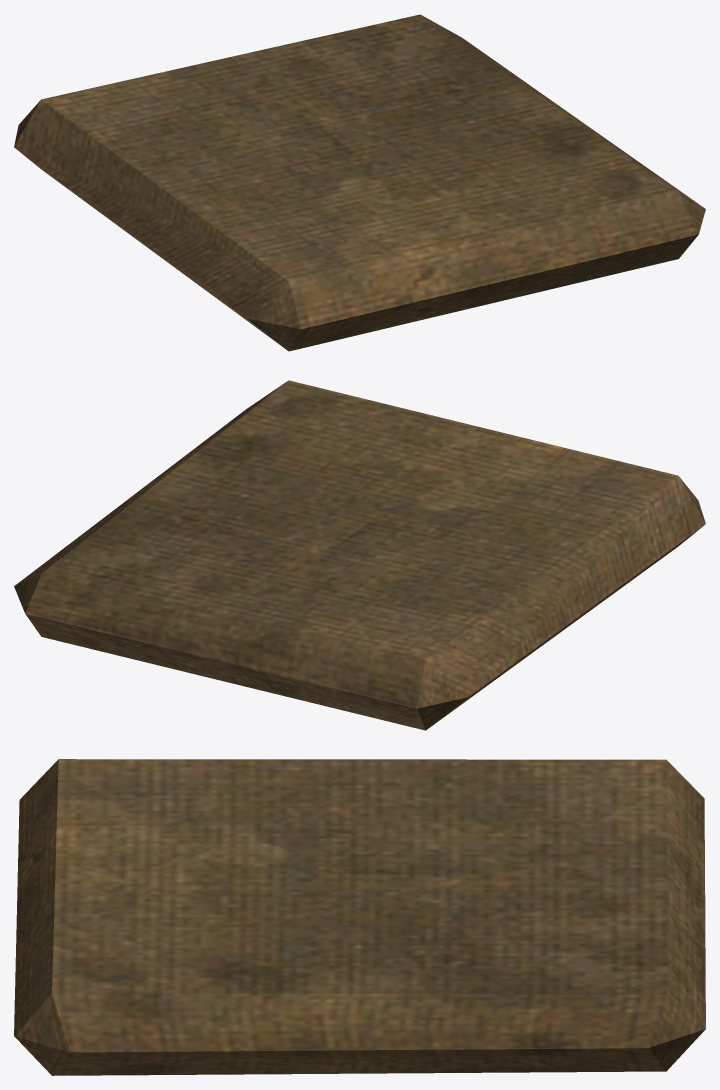
File: frn_all_throwpillow_med_s01_l1.fbx
3 views of the same model, one above another, from view 1: azimuth 30°, elevation 25°; view 2: azimuth 150°, elevation 25°; view 3: azimuth 270°, elevation 25° (orthographic). The views are drawn at different scales.
Parts seen in each view (by area): view 1: mesh_node; view 2: mesh_node; view 3: mesh_node.
Boxes of the visible parts, box(x1,y1,x2,y2) form: mesh_node: box(14, 14, 705, 351); mesh_node: box(14, 380, 705, 730); mesh_node: box(14, 759, 705, 1075).
Size of the model in its own units: 1.25 by 0.1832 by 1.34.
